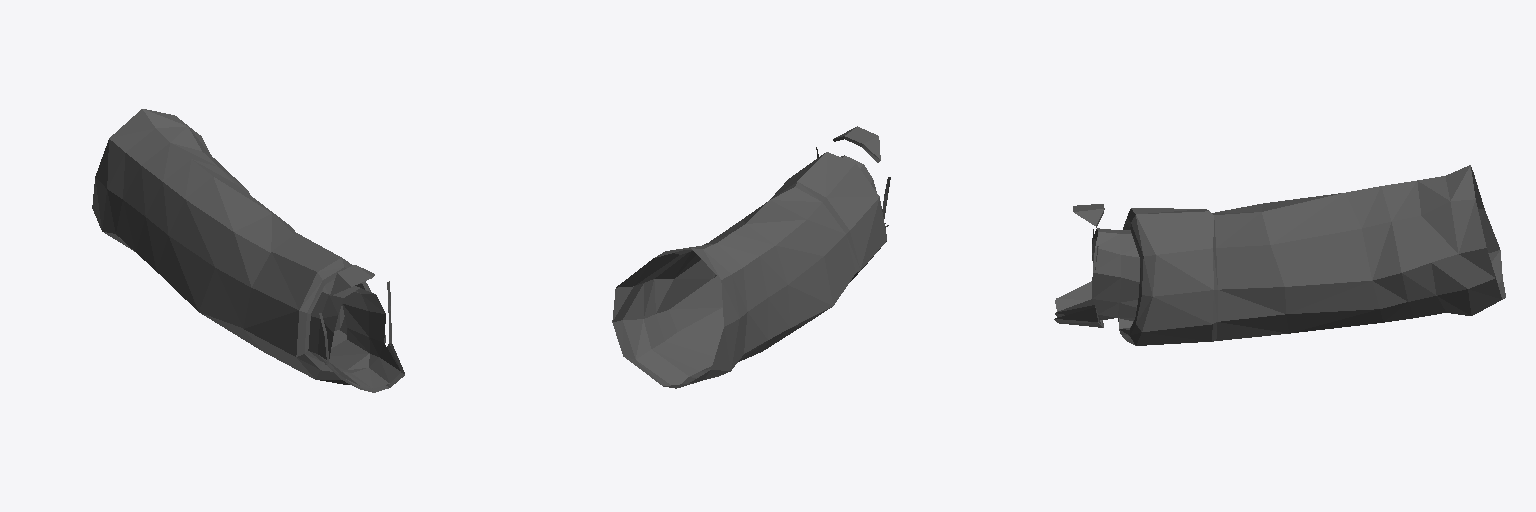
File: r_lowerleg.obj
The picture shows the model from 3 angles: view 1: azimuth 30°, elevation 25°; view 2: azimuth 150°, elevation 25°; view 3: azimuth 270°, elevation 25°; orthographic projection.
Visible parts, largest first — view 1: zoey_color_bmp_011_zoey_color_bmp.011; view 2: zoey_color_bmp_011_zoey_color_bmp.011; view 3: zoey_color_bmp_011_zoey_color_bmp.011.
Boxes of the visible parts, box(x1,y1,x2,y2) form: zoey_color_bmp_011_zoey_color_bmp.011: box(92, 109, 404, 392); zoey_color_bmp_011_zoey_color_bmp.011: box(612, 126, 890, 388); zoey_color_bmp_011_zoey_color_bmp.011: box(1054, 165, 1505, 345).
Bounding box in the file's own units: 4.89 × 6.26 × 15.62.